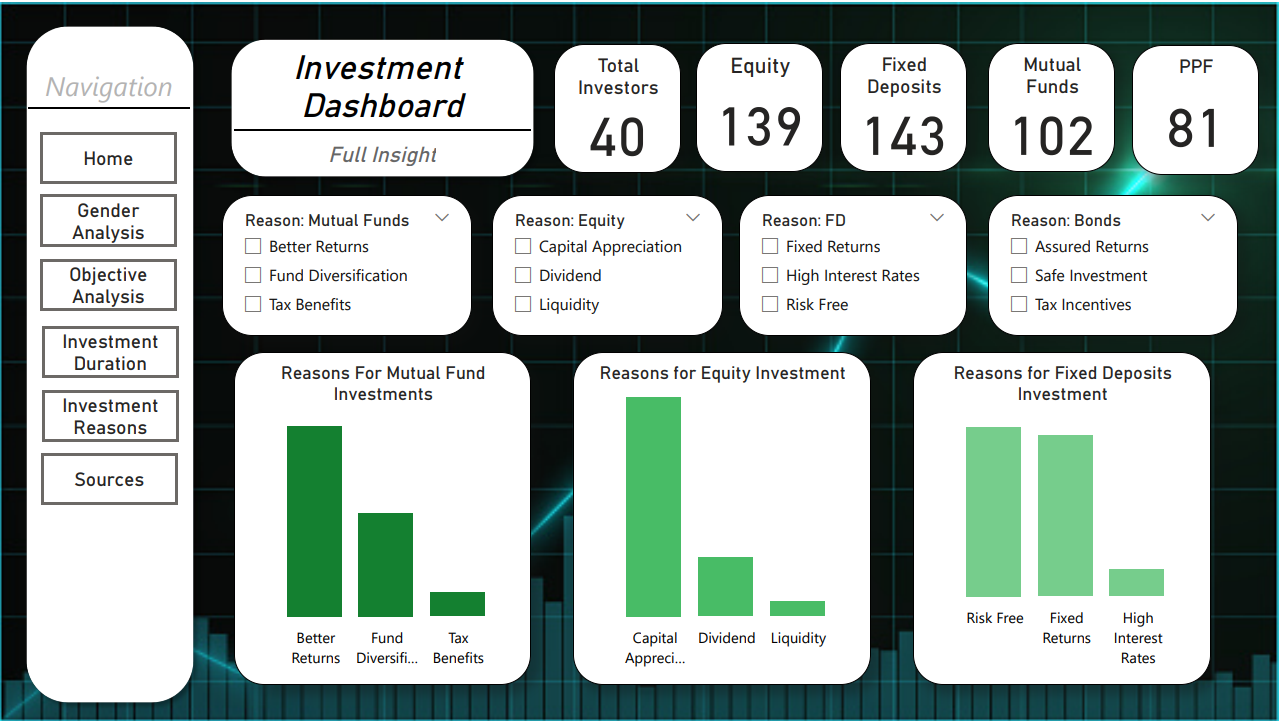

Layout of this report page (visuals, bound fields, positions):
{"tool":"powerbi","page":{"name":"Investment: Reasons","canvas":[1280,720],"ordinal":4},"visuals":[{"type":"shape","box":[19.2,16.5,183.9,693],"z":0},{"type":"textbox","box":[28.8,60.4,161.9,46.7],"z":1000},{"type":"shape","box":[28.8,83.7,161.9,43.9],"z":2000},{"type":"shape","box":[223.7,28.8,319.7,153.7],"z":3000},{"type":"textbox","box":[246.6,41.3,272.2,85.5],"z":4000},{"type":"shape","box":[234.6,105.7,297.8,43.9],"z":5000},{"type":"columnChart","title":"Reasons for Equity Investment","fields":{"Category":["Data_set 2.Reason_Equity"],"Y":["CountNonNull(Data_set 2.gender)"]},"box":[574.3,349.9,298,333],"z":6000},{"type":"actionButton","title":"Home","box":[41.3,129.7,136.8,52.7],"z":7000},{"type":"actionButton","title":"Home","box":[41.3,192.4,136.8,52.7],"z":8000},{"type":"actionButton","title":"Home","box":[41.3,256.6,136.8,52.7],"z":9000},{"type":"actionButton","title":"Home","box":[42.8,323.6,136.8,52.7],"z":10000},{"type":"actionButton","title":"Home","box":[42.8,387.7,136.8,52.7],"z":11000},{"type":"card","title":"Total Investors","fields":{"Values":["CountNonNull(Data_set 2.age)"]},"box":[555,42.2,126.7,129.1],"z":12000},{"type":"slicer","fields":{"Values":["Data_set 2.Reason_Equity"]},"box":[493.4,193,230.4,141.2],"z":13000},{"type":"slicer","fields":{"Values":["Data_set 2.Reason_FD"]},"box":[739.5,193,228,141.2],"z":14000},{"type":"slicer","fields":{"Values":["Data_set 2.Reason_Mutual"]},"box":[223.2,193,249.7,141.2],"z":15000},{"type":"columnChart","title":"Reasons for Fixed Deposits Investment","fields":{"Y":["CountNonNull(Data_set 2.age)"],"Category":["Data_set 2.Reason_FD"]},"box":[914.5,349.9,298,333],"z":16000},{"type":"columnChart","title":"Reasons For Mutual Fund Investments","fields":{"Y":["CountNonNull(Data_set 2.age)"],"Category":["Data_set 2.Reason_Mutual"]},"box":[235.3,349.9,296.8,333],"z":17000},{"type":"card","title":"Equity","fields":{"Values":["Sum(Data_set 2.Equity_Market)"]},"box":[697.3,41,126.7,129.1],"z":18000},{"type":"card","title":"Fixed Deposits","fields":{"Values":["Sum(Data_set 2.Fixed_Deposits)"]},"box":[840.9,41,126.7,129.1],"z":19000},{"type":"card","title":"Mutual Funds","fields":{"Values":["Sum(Data_set 2.Mutual_Funds)"]},"box":[989.3,41,126.7,129.1],"z":20000},{"type":"actionButton","title":"Home","box":[42.2,451.2,136.3,51.9],"z":21000},{"type":"slicer","fields":{"Values":["Data_set 2.Reason_Bonds"]},"box":[989.3,193,249.7,141.2],"z":22000},{"type":"card","title":"PPF","fields":{"Values":["Sum(Data_set 2.PPF)"]},"box":[1132.8,43.4,126.7,129.1],"z":23000}]}

Visuals, with their boxes in screenshot pixels (x1, y1, x2, y2), scaled from the page's 1280x720 canvas onto the 1280x721 screenshot:
shape: l=19, t=17, r=203, b=710
textbox: l=29, t=60, r=191, b=107
shape: l=29, t=84, r=191, b=128
shape: l=224, t=29, r=543, b=183
textbox: l=247, t=41, r=519, b=127
shape: l=235, t=106, r=532, b=150
"Reasons for Equity Investment" columnChart: l=574, t=350, r=872, b=684
"Home" actionButton: l=41, t=130, r=178, b=183
"Home" actionButton: l=41, t=193, r=178, b=245
"Home" actionButton: l=41, t=257, r=178, b=310
"Home" actionButton: l=43, t=324, r=180, b=377
"Home" actionButton: l=43, t=388, r=180, b=441
"Total Investors" card: l=555, t=42, r=682, b=172
slicer - Data_set 2.Reason_Equity: l=493, t=193, r=724, b=335
slicer - Data_set 2.Reason_FD: l=740, t=193, r=968, b=335
slicer - Data_set 2.Reason_Mutual: l=223, t=193, r=473, b=335
"Reasons for Fixed Deposits Investment" columnChart: l=914, t=350, r=1212, b=684
"Reasons For Mutual Fund Investments" columnChart: l=235, t=350, r=532, b=684
"Equity" card: l=697, t=41, r=824, b=170
"Fixed Deposits" card: l=841, t=41, r=968, b=170
"Mutual Funds" card: l=989, t=41, r=1116, b=170
"Home" actionButton: l=42, t=452, r=178, b=504
slicer - Data_set 2.Reason_Bonds: l=989, t=193, r=1239, b=335
"PPF" card: l=1133, t=43, r=1260, b=173
